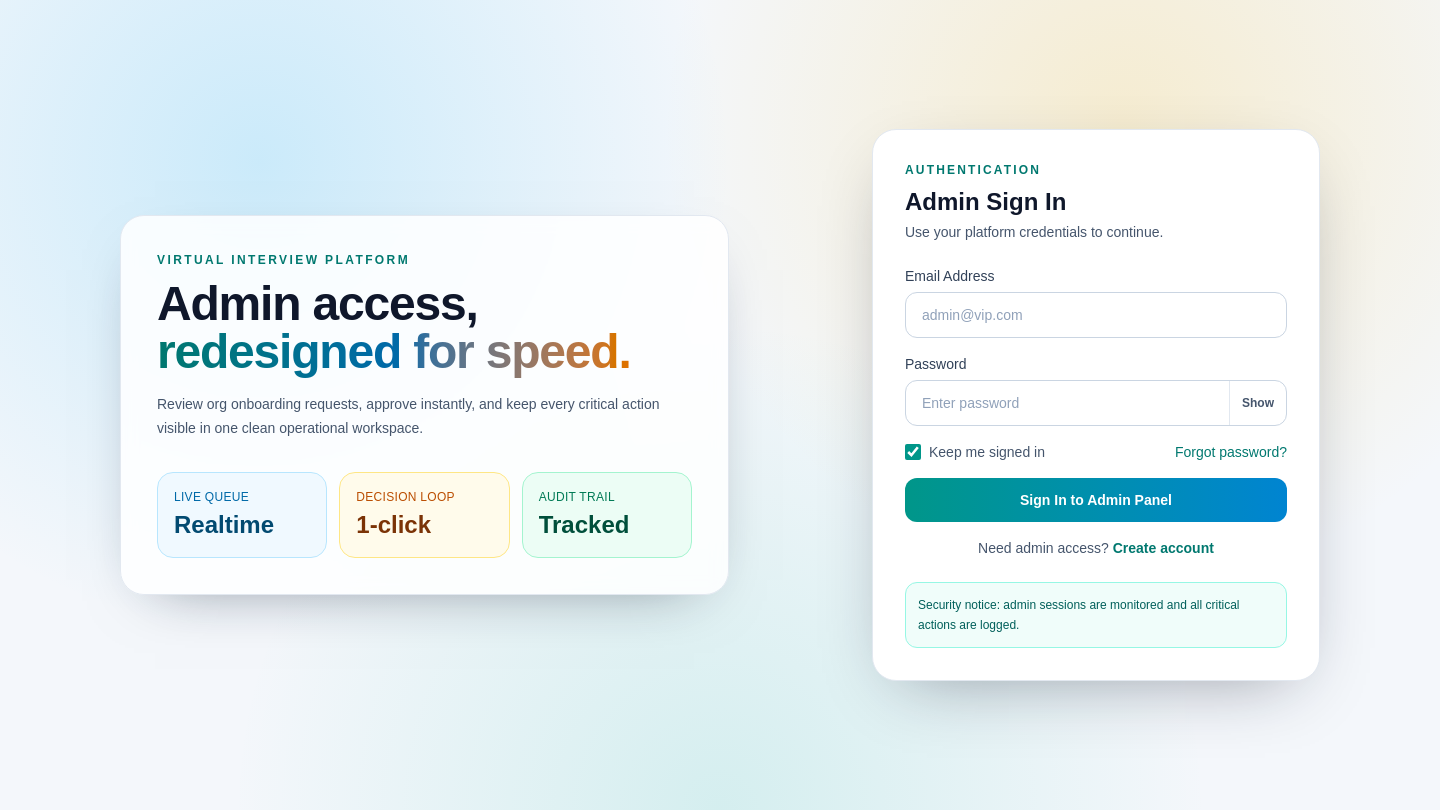
Test: AdminAuthPage › shows validation error when form is empty
What coordinates should you click on to do the following:
click the button "Sign In to Admin Panel"
I would click on:
 (1096, 500)
Its box is [905,478,1287,522].
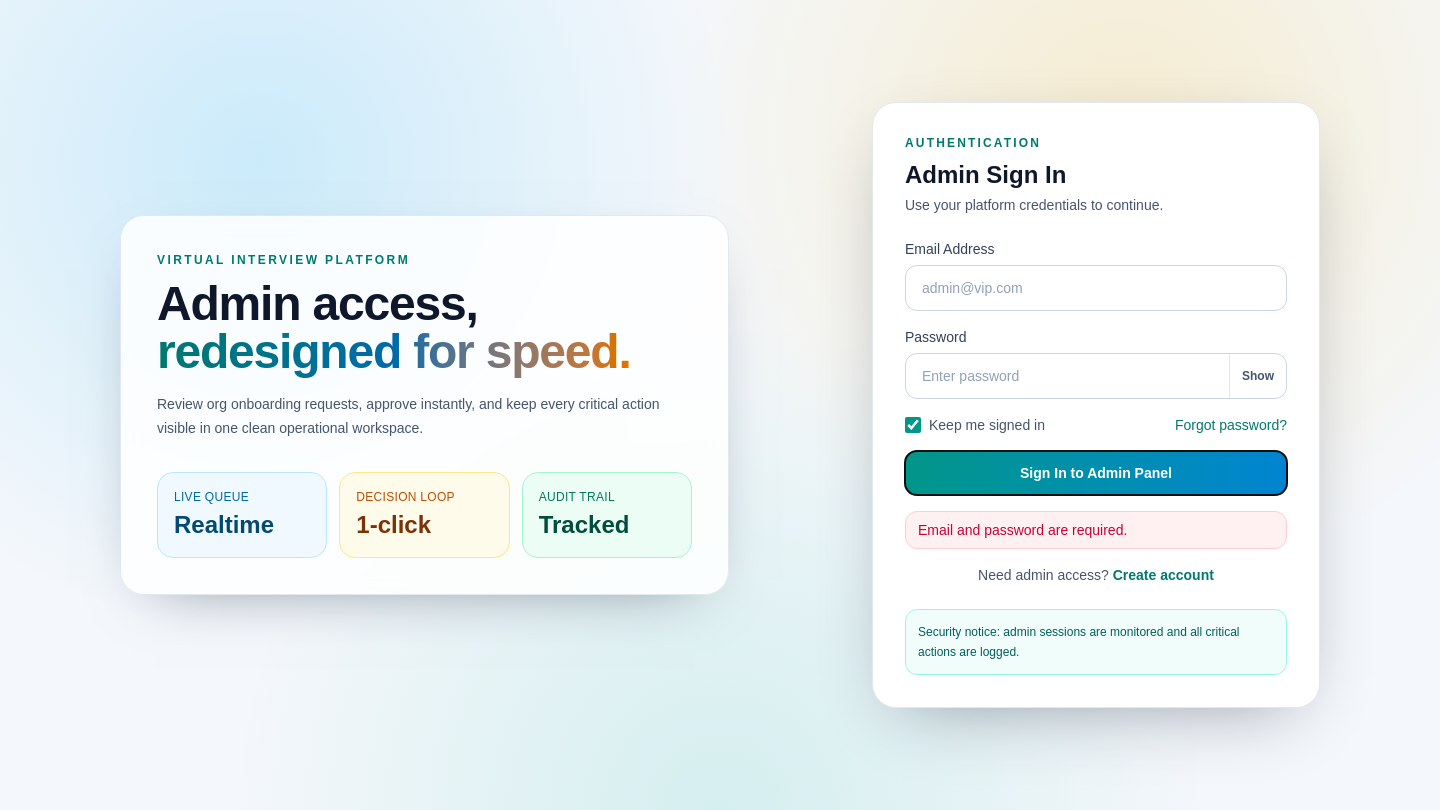
Check: the text "Email and password are required." is shown, box [905,511,1287,549]
